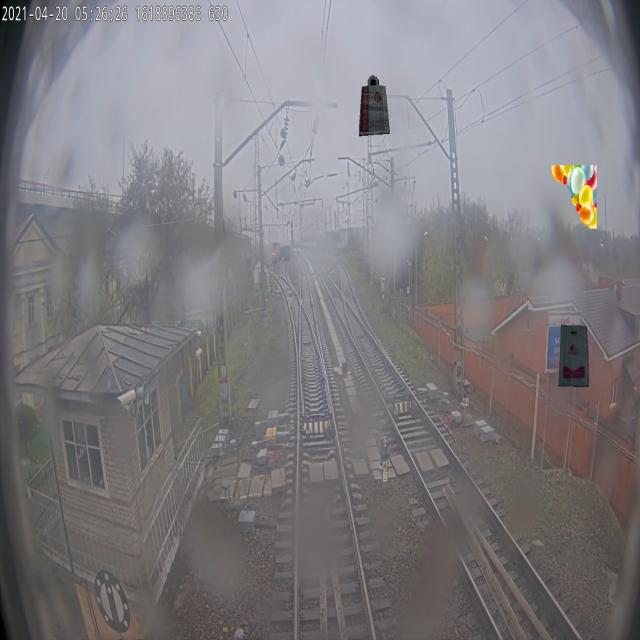balloon: (551, 164, 597, 228)
plastic bag: (358, 73, 390, 137), (558, 324, 589, 388)
